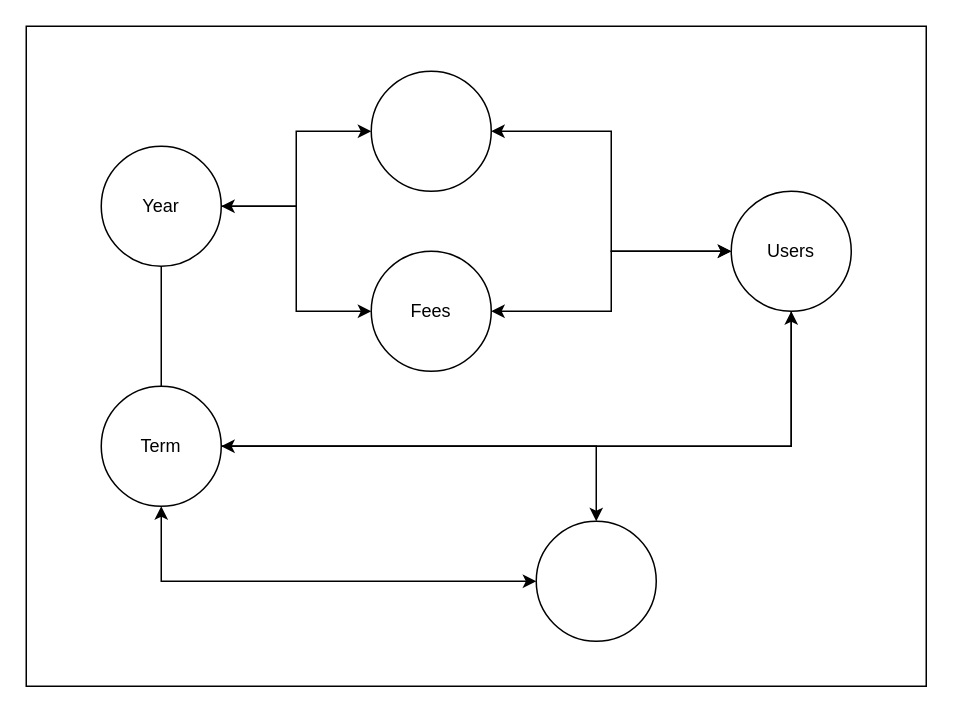
The diagram is 953 pixels wide and 713 high, and some of its shapes have lost their labels. The centre of each missing label's shape, as x and y in pixels:
"Course" goes at point 595,580.
"School" goes at point 430,130.
